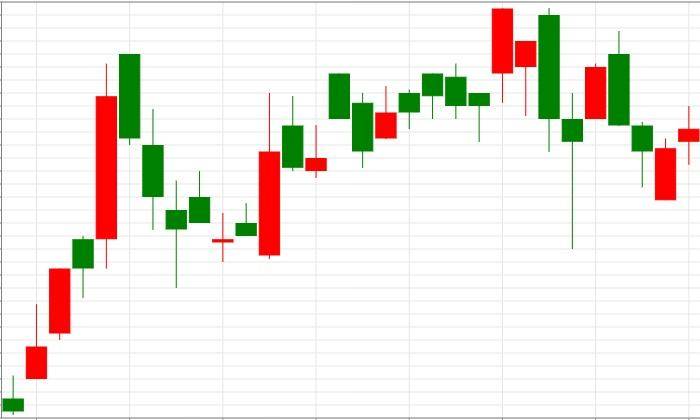bearish_engulfing_fall: (468, 7, 561, 152)
bullish_engulfing_rise: (118, 53, 281, 287)
hammer_rise: (421, 64, 490, 142)
